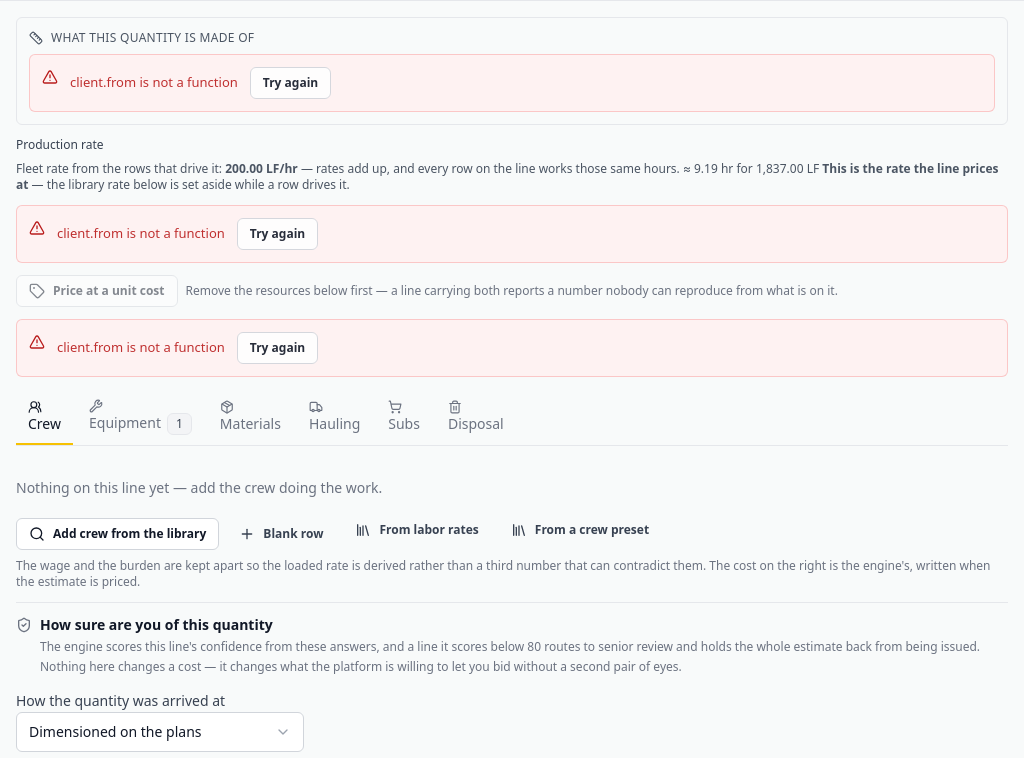
the build-up behind a line › bills a machine on the basis it is rented at, and says how many periods
Click the tab "Equipment 1" at [140, 417], box [77,389,204,445]
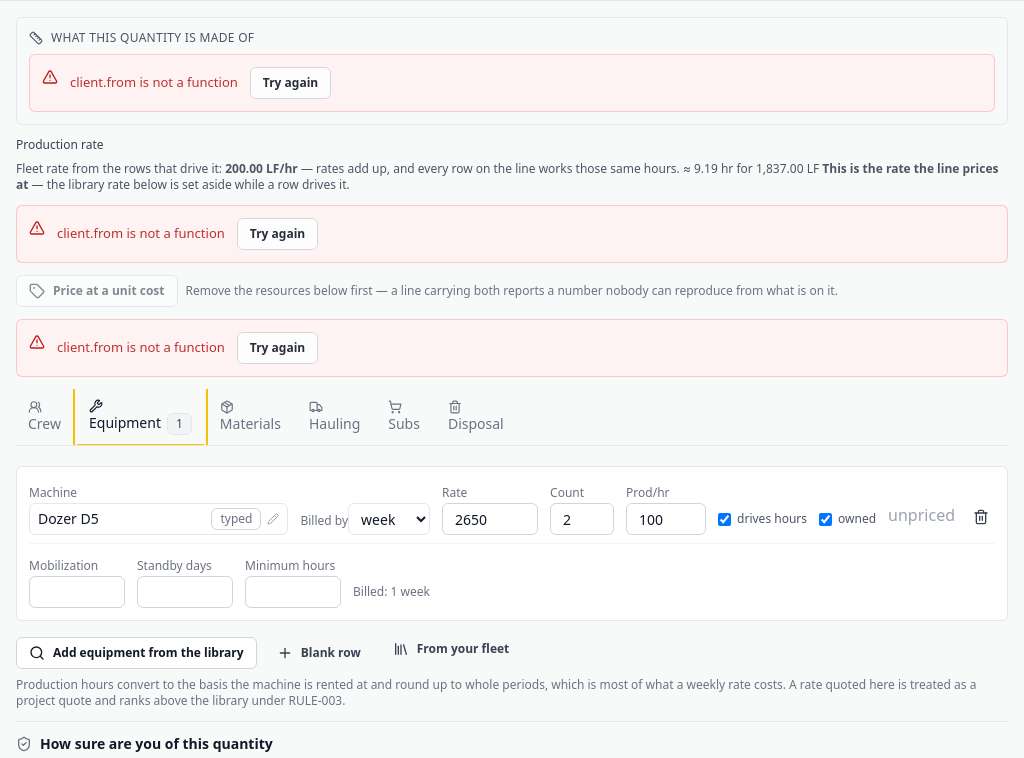
Expected: the text "Billed: 1 week" is shown, [353,584,430,608]
